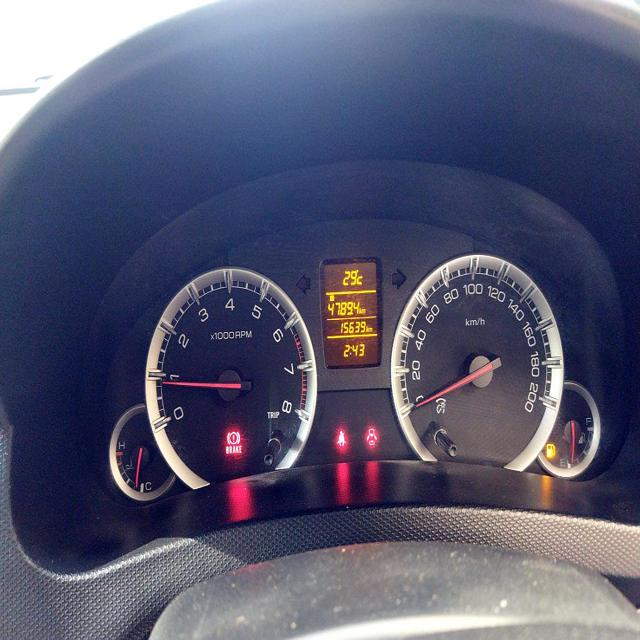odometer: (335, 320, 369, 338)
